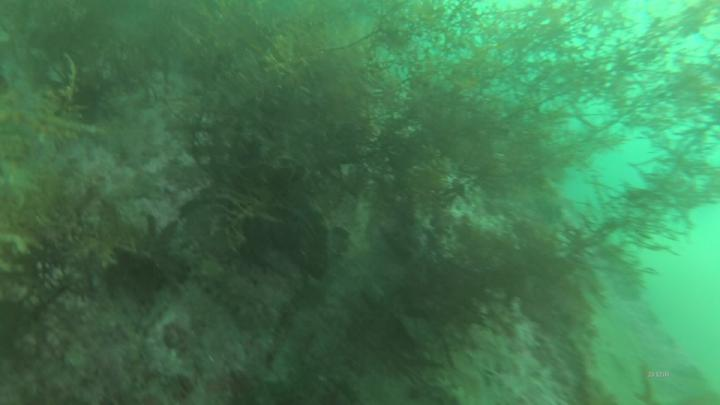waterweeds: (194, 2, 720, 304), (1, 177, 130, 349), (1, 55, 104, 148)
